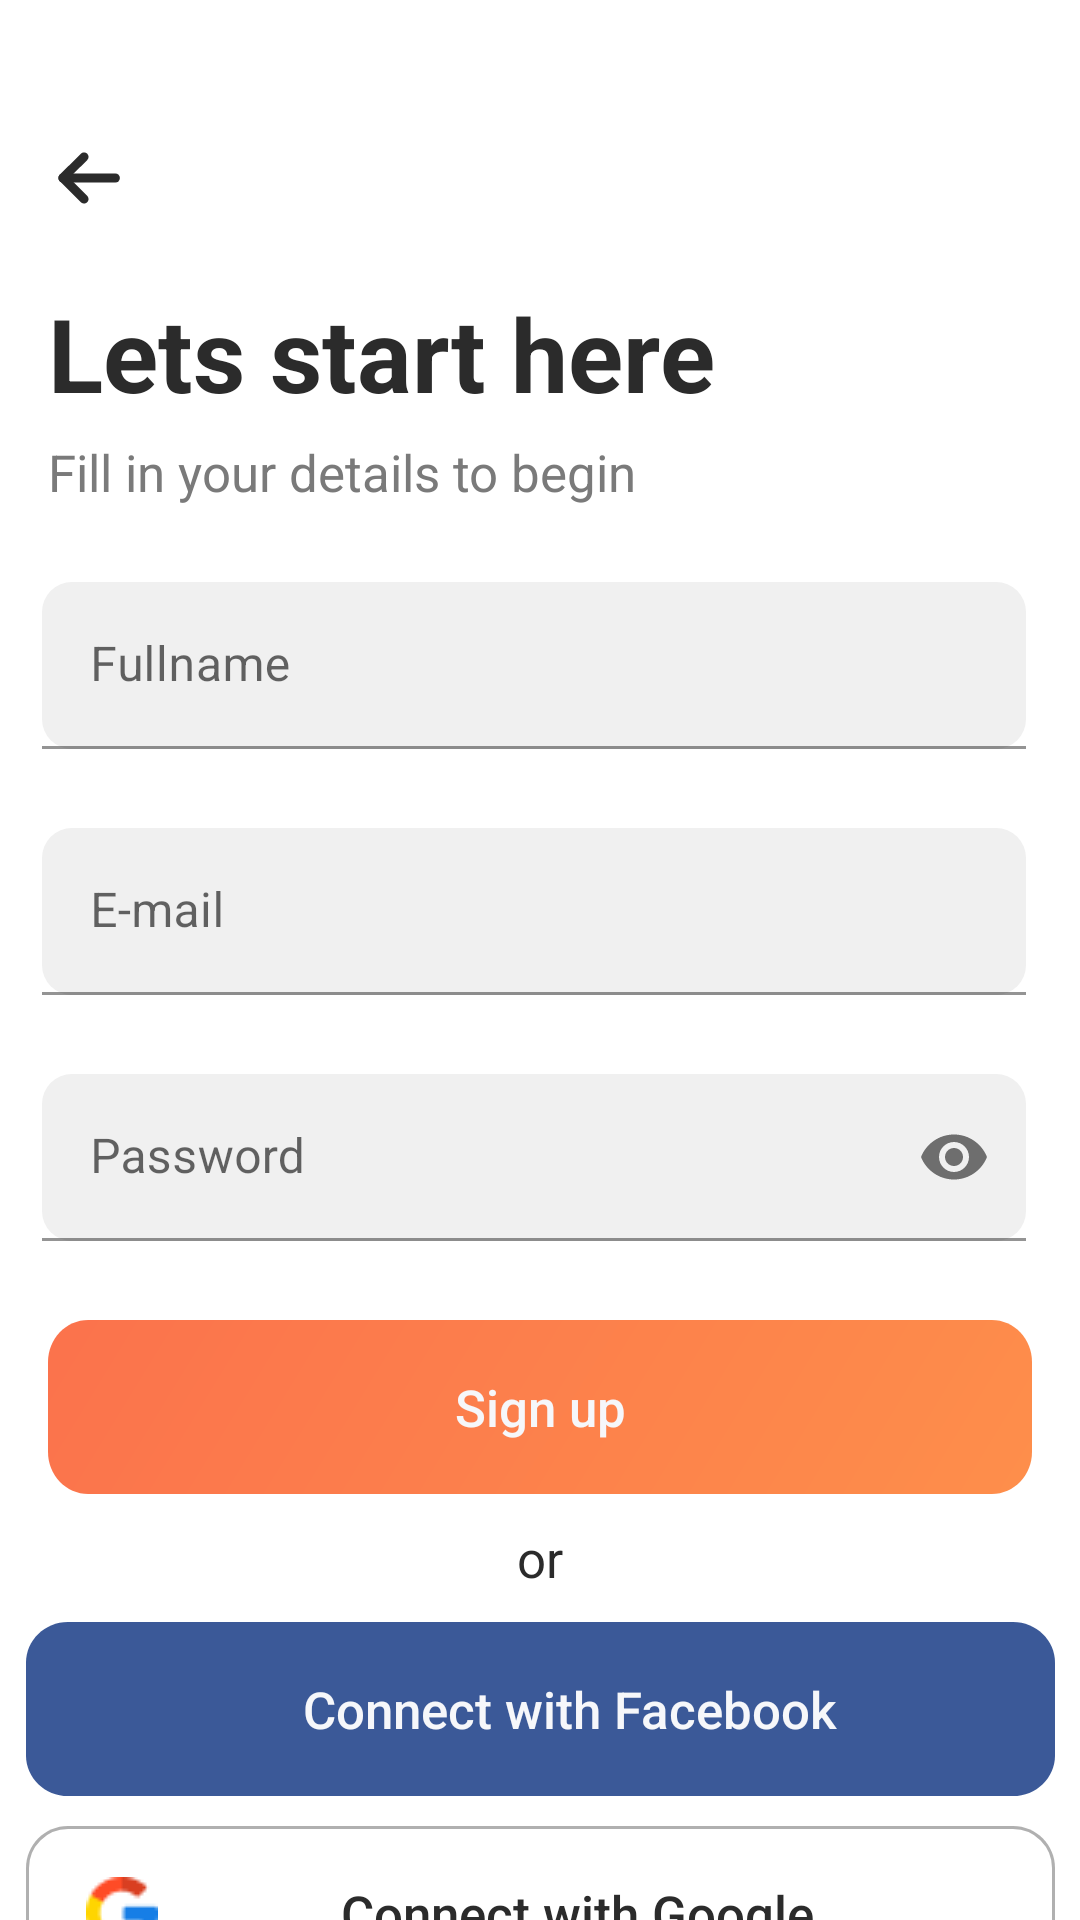

Icon bounding boxes for this 1080 x 1920 phone screenshot, format detection(x1, y1, x2, y2):
Back button: detection(58, 152, 120, 204)
